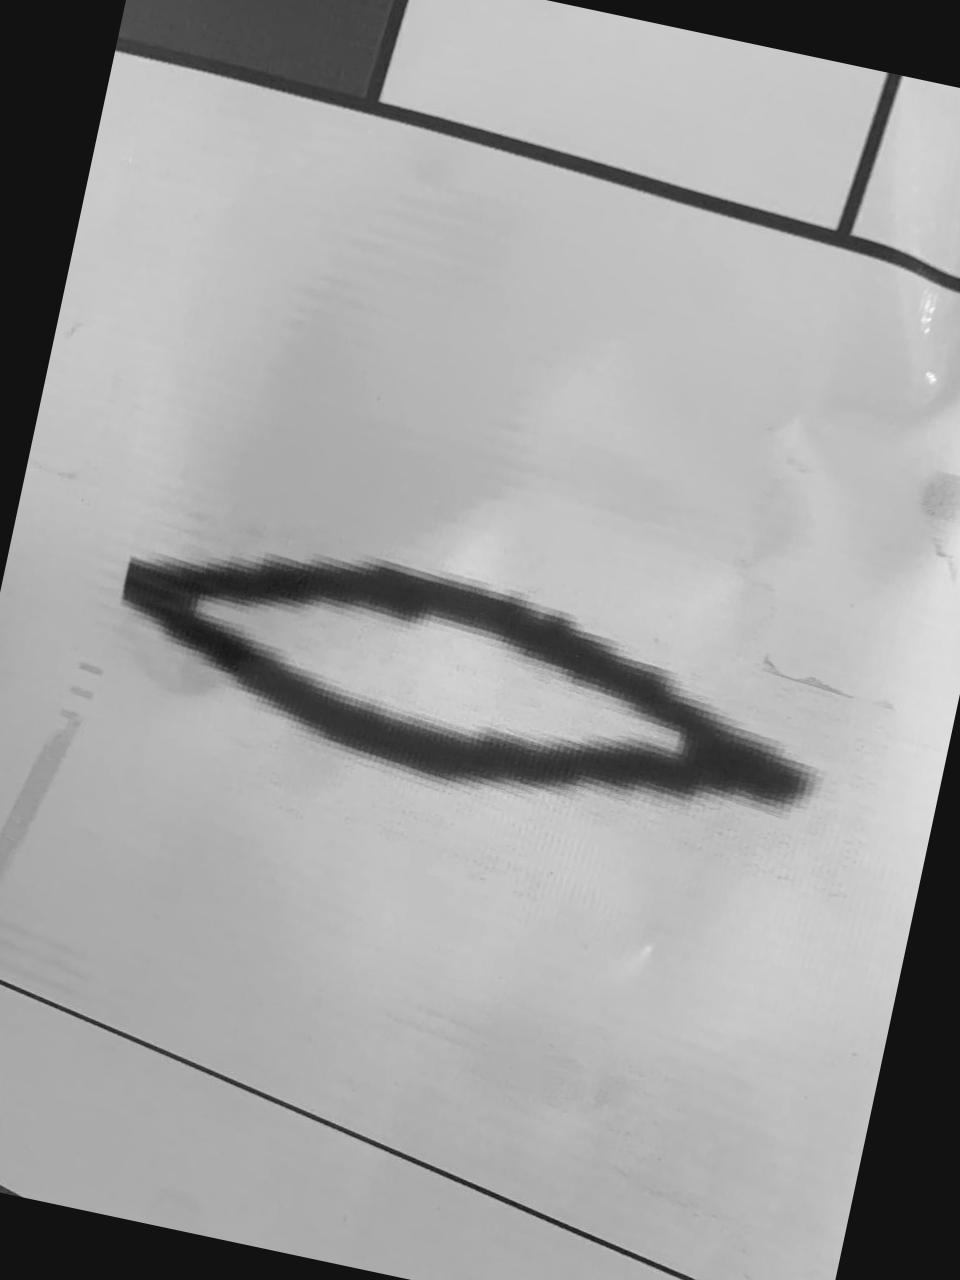Mouth: (106, 526, 838, 828)
